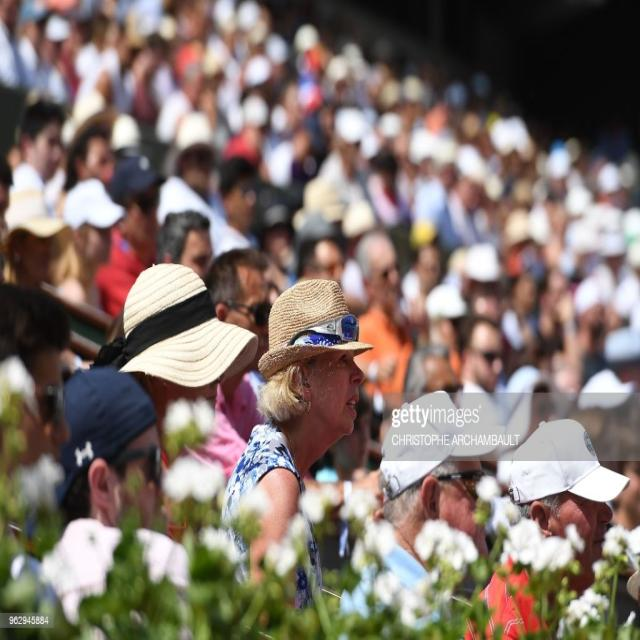cap: (509, 421, 630, 580)
hat: (118, 264, 258, 442), (262, 281, 372, 440)
head: (207, 248, 267, 334), (154, 210, 214, 278)
